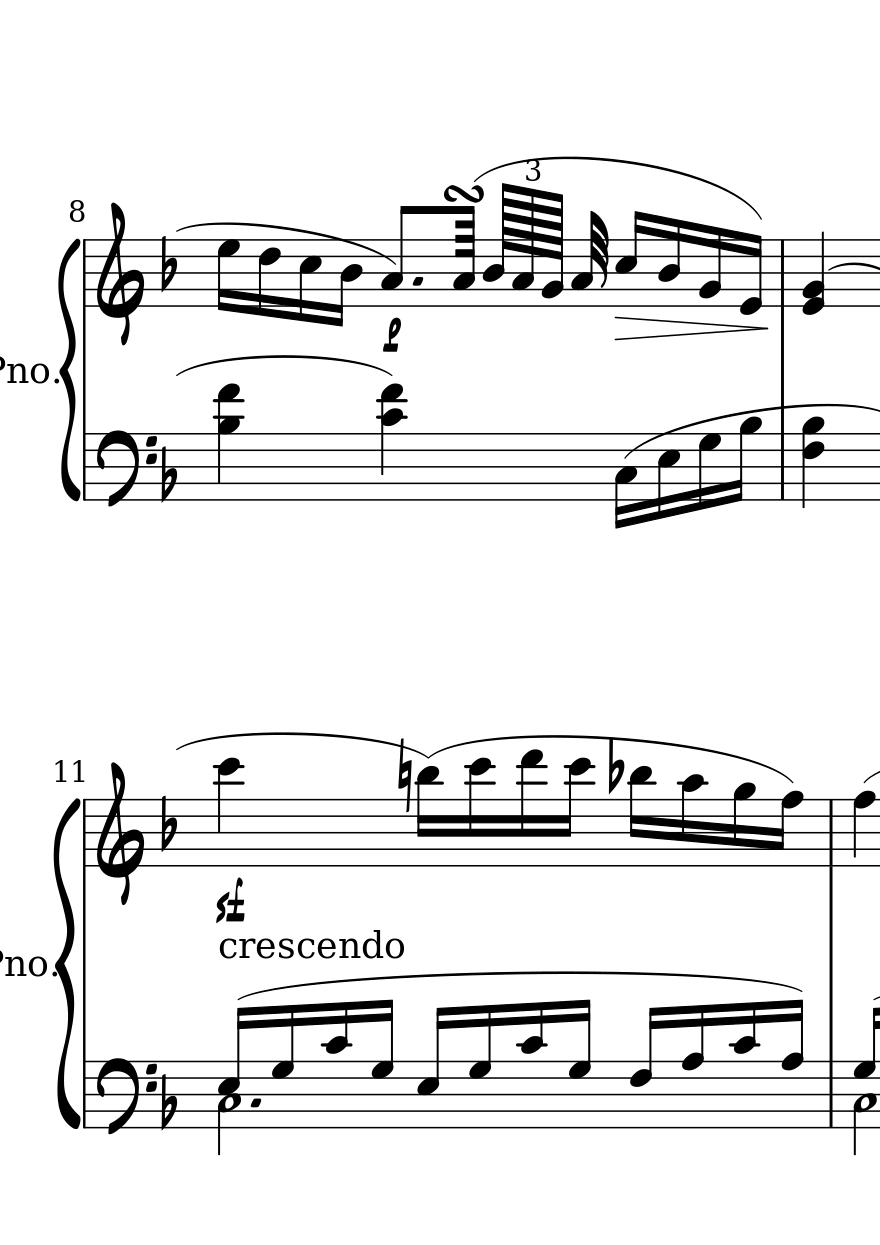1: (69, 758, 86, 785), (52, 758, 68, 785)
128_2: (538, 190, 564, 310)
128_3: (511, 187, 535, 307)
128_4: (481, 182, 509, 311)
16_0: (736, 232, 764, 317)
16_10: (322, 1000, 351, 1129), (517, 1001, 546, 1129), (731, 1000, 759, 1129), (677, 771, 708, 868)
16_11: (413, 765, 441, 870), (626, 765, 654, 869)
16_12: (557, 756, 594, 869), (465, 756, 494, 868)
16_13: (516, 749, 546, 867)
16_2: (697, 224, 724, 310)
16_3: (612, 431, 637, 531)
16_4: (332, 238, 362, 328), (655, 216, 682, 308)
16_5: (415, 1004, 449, 1131), (613, 209, 646, 308), (655, 430, 680, 520), (296, 237, 321, 324)
16_6: (627, 1004, 663, 1131), (256, 238, 281, 320)
16_7: (567, 995, 593, 1132), (467, 1002, 493, 1132), (270, 1003, 296, 1132), (370, 997, 395, 1131), (696, 430, 720, 513), (215, 237, 240, 315)
16_8: (779, 997, 805, 1131), (680, 1003, 705, 1131), (770, 789, 804, 869)
16_9: (729, 414, 761, 505), (730, 780, 756, 870)
2_8: (850, 789, 878, 870)
3: (524, 159, 541, 184)
32_3: (570, 211, 608, 309)
4_0_2: (801, 232, 826, 318)
4_10_13: (376, 382, 409, 503)
4_12: (214, 756, 243, 868)
4_6_9: (801, 414, 826, 509)
4_9_13: (213, 383, 245, 502)
64_2: (451, 200, 476, 309)
8: (68, 197, 85, 223)
8_3: (379, 205, 412, 308)
Brace: (56, 794, 82, 1126), (59, 234, 81, 499)
Diminuendo_hairpin: (614, 314, 769, 340)
Fclef: (94, 1055, 156, 1138), (94, 428, 155, 510)
Flat: (157, 233, 179, 293), (158, 1071, 180, 1131), (158, 444, 179, 504), (158, 793, 178, 853), (605, 737, 624, 797)
Gclef: (94, 200, 145, 347), (94, 760, 144, 906)
Natural: (396, 742, 413, 813)
Single_barline: (773, 239, 791, 308), (775, 432, 792, 500), (823, 799, 840, 867), (823, 1060, 840, 1128), (78, 434, 92, 499), (78, 1062, 92, 1127), (79, 800, 92, 867)
Slur: (474, 156, 761, 224), (432, 734, 794, 785), (175, 731, 429, 760), (177, 353, 394, 380)
Turn: (439, 184, 483, 203)
dot: (410, 274, 425, 288), (248, 1096, 262, 1110)
p: (381, 317, 403, 354)
sf: (214, 877, 246, 926)
